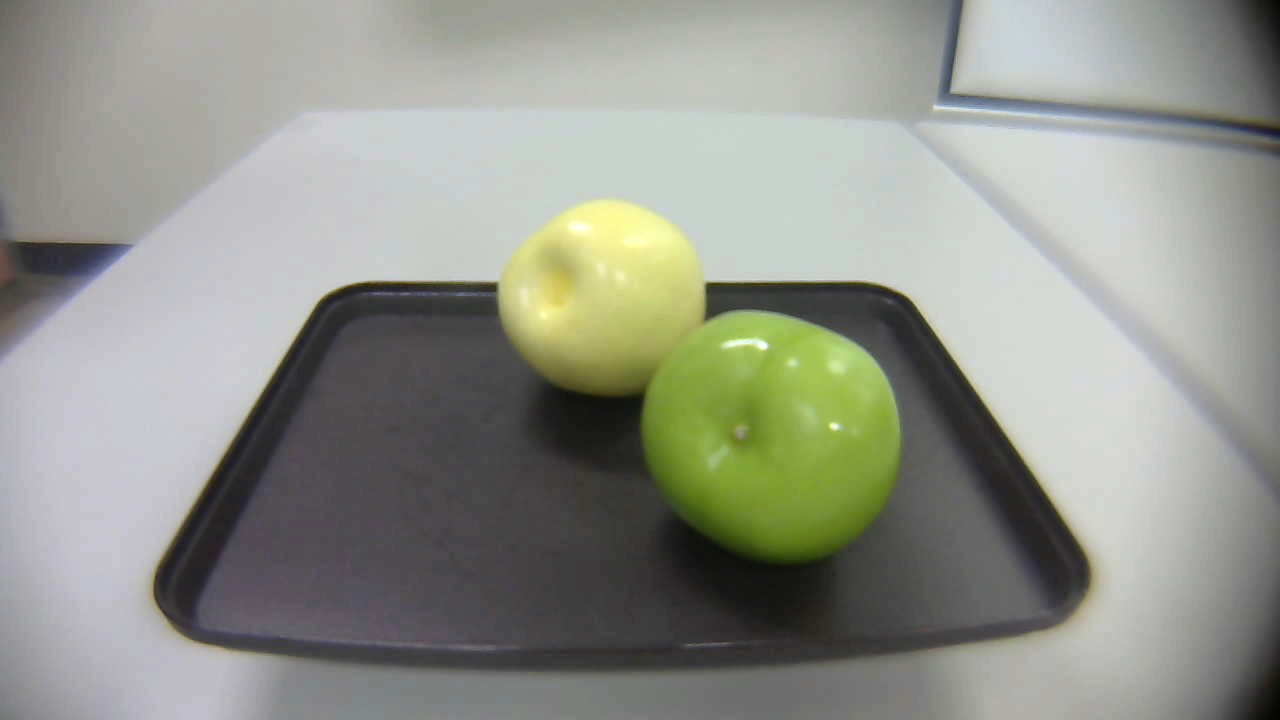green pear: (633, 306, 909, 566)
western pear: (491, 193, 730, 413)
